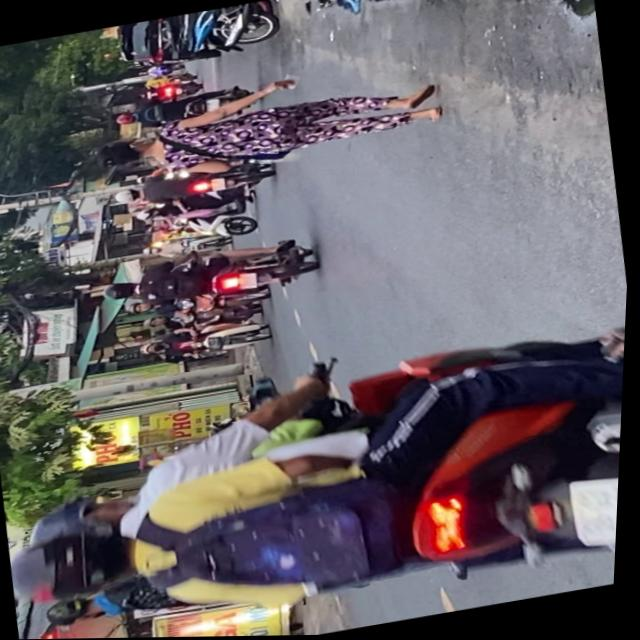helmet: (10, 520, 151, 615), (27, 489, 142, 549), (102, 280, 142, 306)
licenseplate: (0, 312, 629, 640), (98, 235, 324, 321)
nohelmet: (568, 475, 623, 557), (240, 273, 260, 292)
